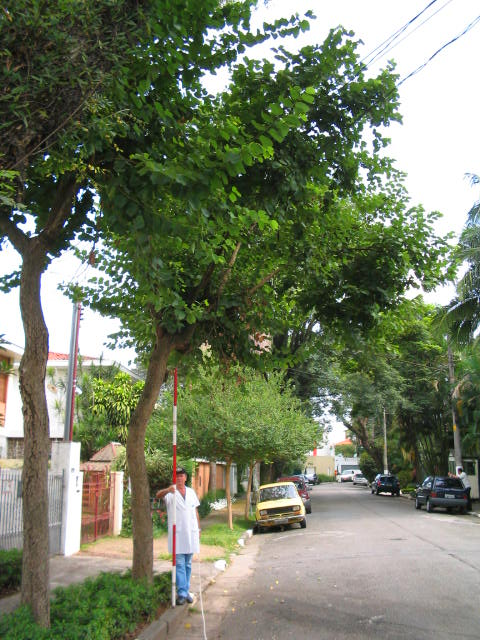crown: (74, 26, 458, 363)
stem: (4, 266, 76, 626), (116, 338, 177, 591)
stick: (168, 367, 183, 609)
tree: (70, 22, 459, 594)
